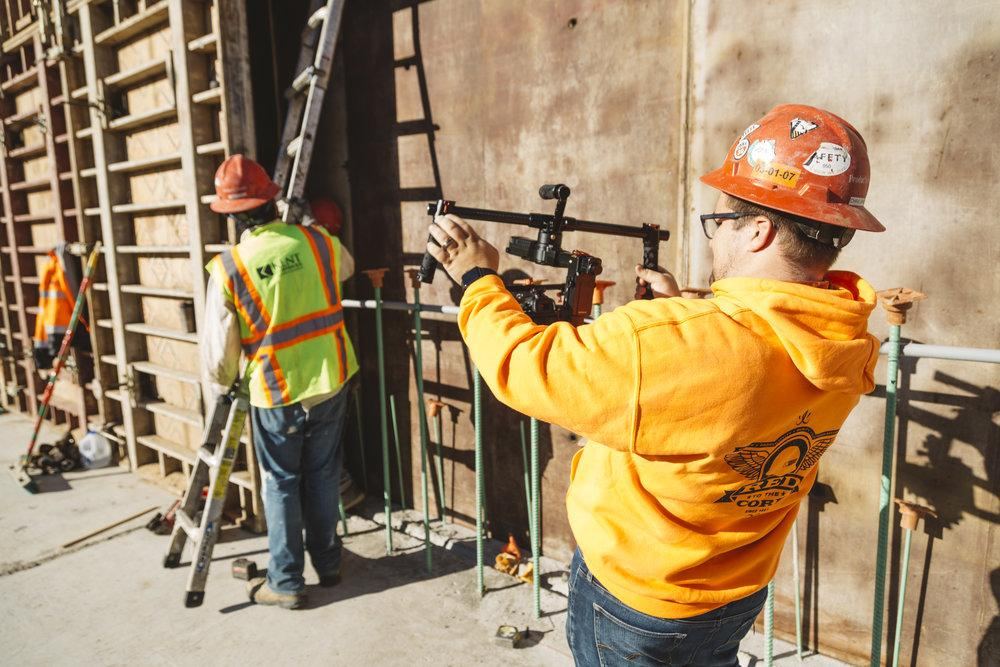helmet: (696, 103, 887, 239), (209, 156, 283, 221)
